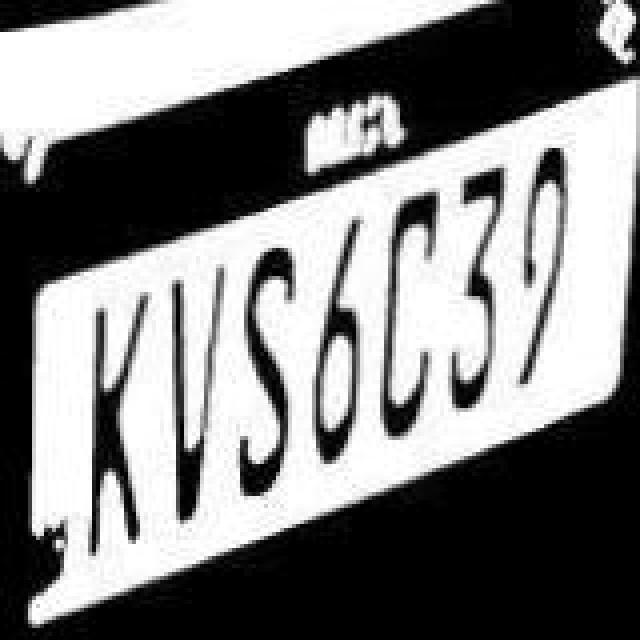3: (456, 158, 516, 430)
6: (318, 202, 374, 486)
9: (516, 134, 576, 406)
C: (384, 178, 444, 454)
K: (88, 274, 148, 570)
S: (232, 240, 316, 520)
V: (158, 258, 230, 538)
